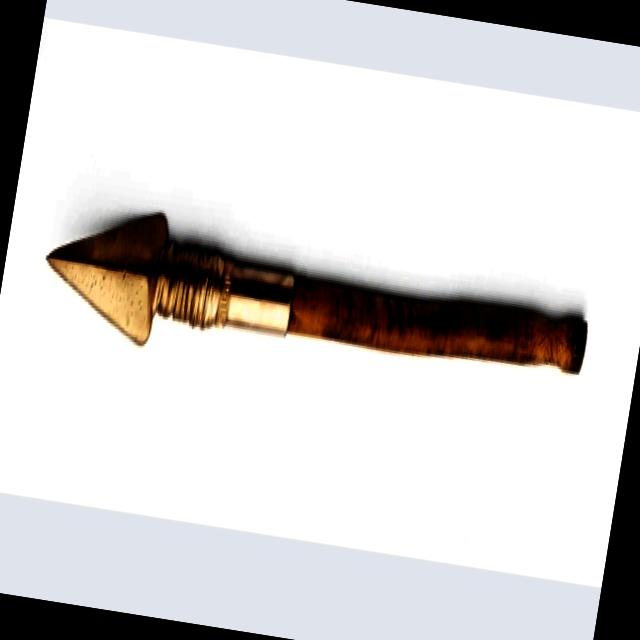spear: (18, 114, 614, 497)
